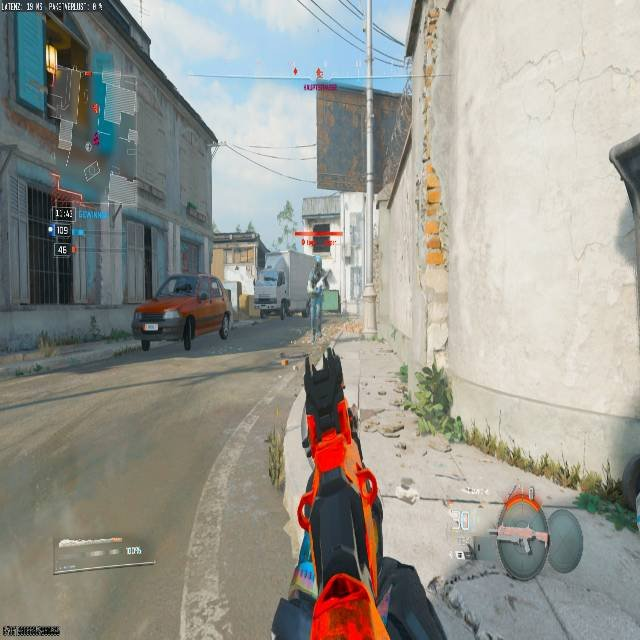head: (314, 257, 321, 266)
player: (311, 261, 327, 292)
